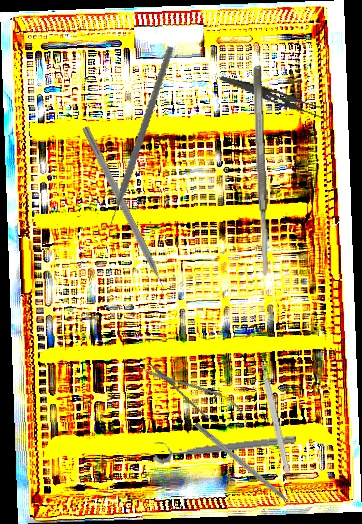Chopper: (56, 45, 211, 235), (72, 125, 173, 306)
Dressing Forceps: (215, 74, 331, 122)
Fixation Ring: (151, 423, 297, 465)
Hook Surgical: (193, 421, 306, 518)
Micro Scissor: (138, 353, 256, 439)
Scalpel Handle: (258, 361, 292, 474)
Spatula Surgical: (251, 65, 271, 278)
